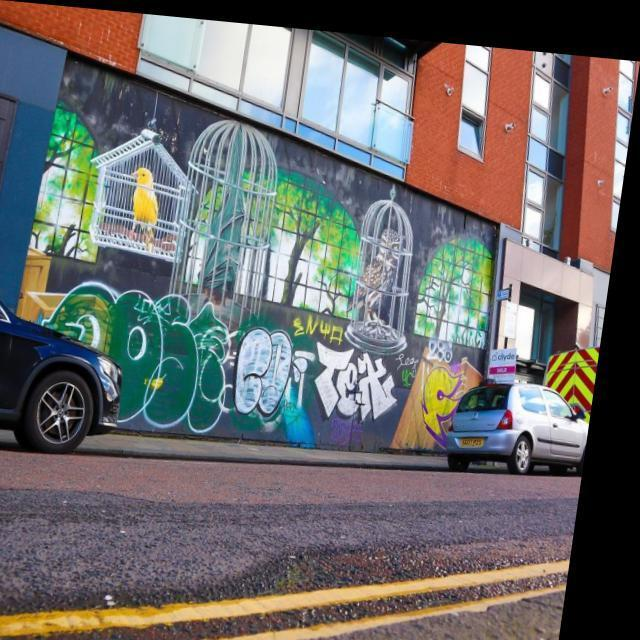-: (50, 69, 291, 325), (22, 228, 262, 436), (339, 160, 435, 350), (307, 319, 416, 427), (234, 301, 310, 426)
